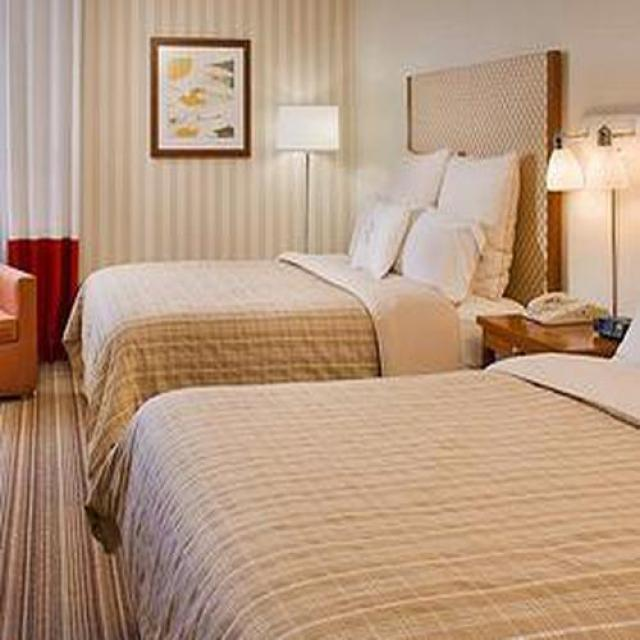bed: (63, 52, 561, 554), (118, 314, 640, 640)
